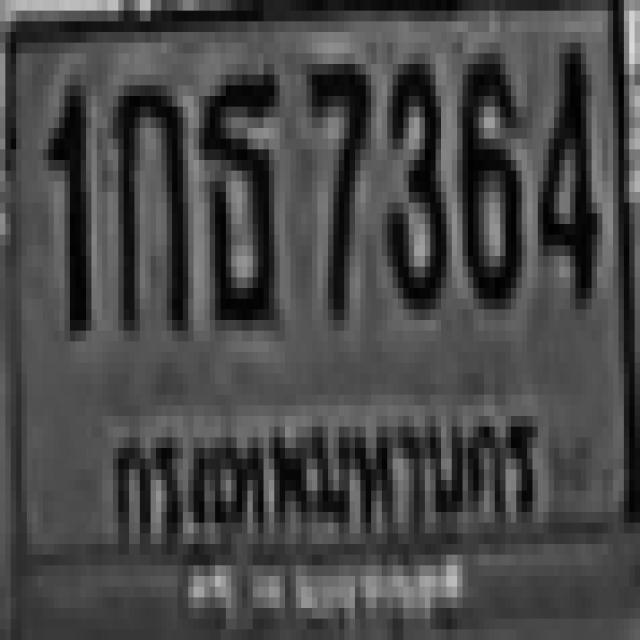1: (43, 74, 86, 330)
10GorGai: (107, 75, 183, 320)
3: (382, 53, 441, 299)
33ThorThong: (199, 64, 274, 320)
4: (532, 32, 592, 299)
6: (457, 42, 516, 298)
7: (301, 53, 366, 310)
Bangkok: (98, 378, 562, 561)
